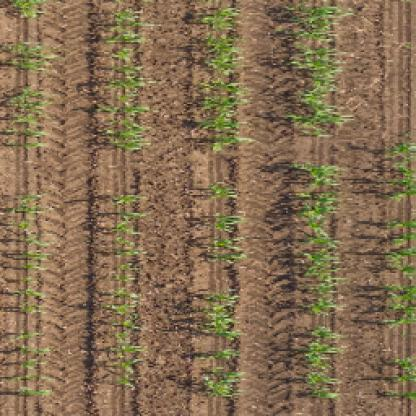sorghum_plant: (284, 158, 340, 410), (2, 184, 60, 411), (195, 178, 247, 404), (378, 133, 416, 409), (192, 2, 260, 156), (0, 0, 63, 154), (284, 0, 350, 143), (101, 5, 164, 153), (106, 186, 144, 396)
